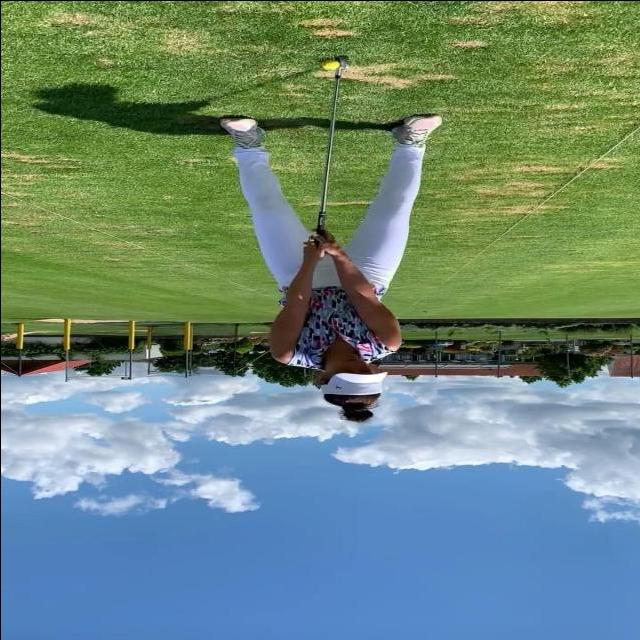ClubHandle: (315, 55, 349, 234)
ClubHead: (336, 55, 349, 69)
GolfBall: (322, 60, 339, 69)
